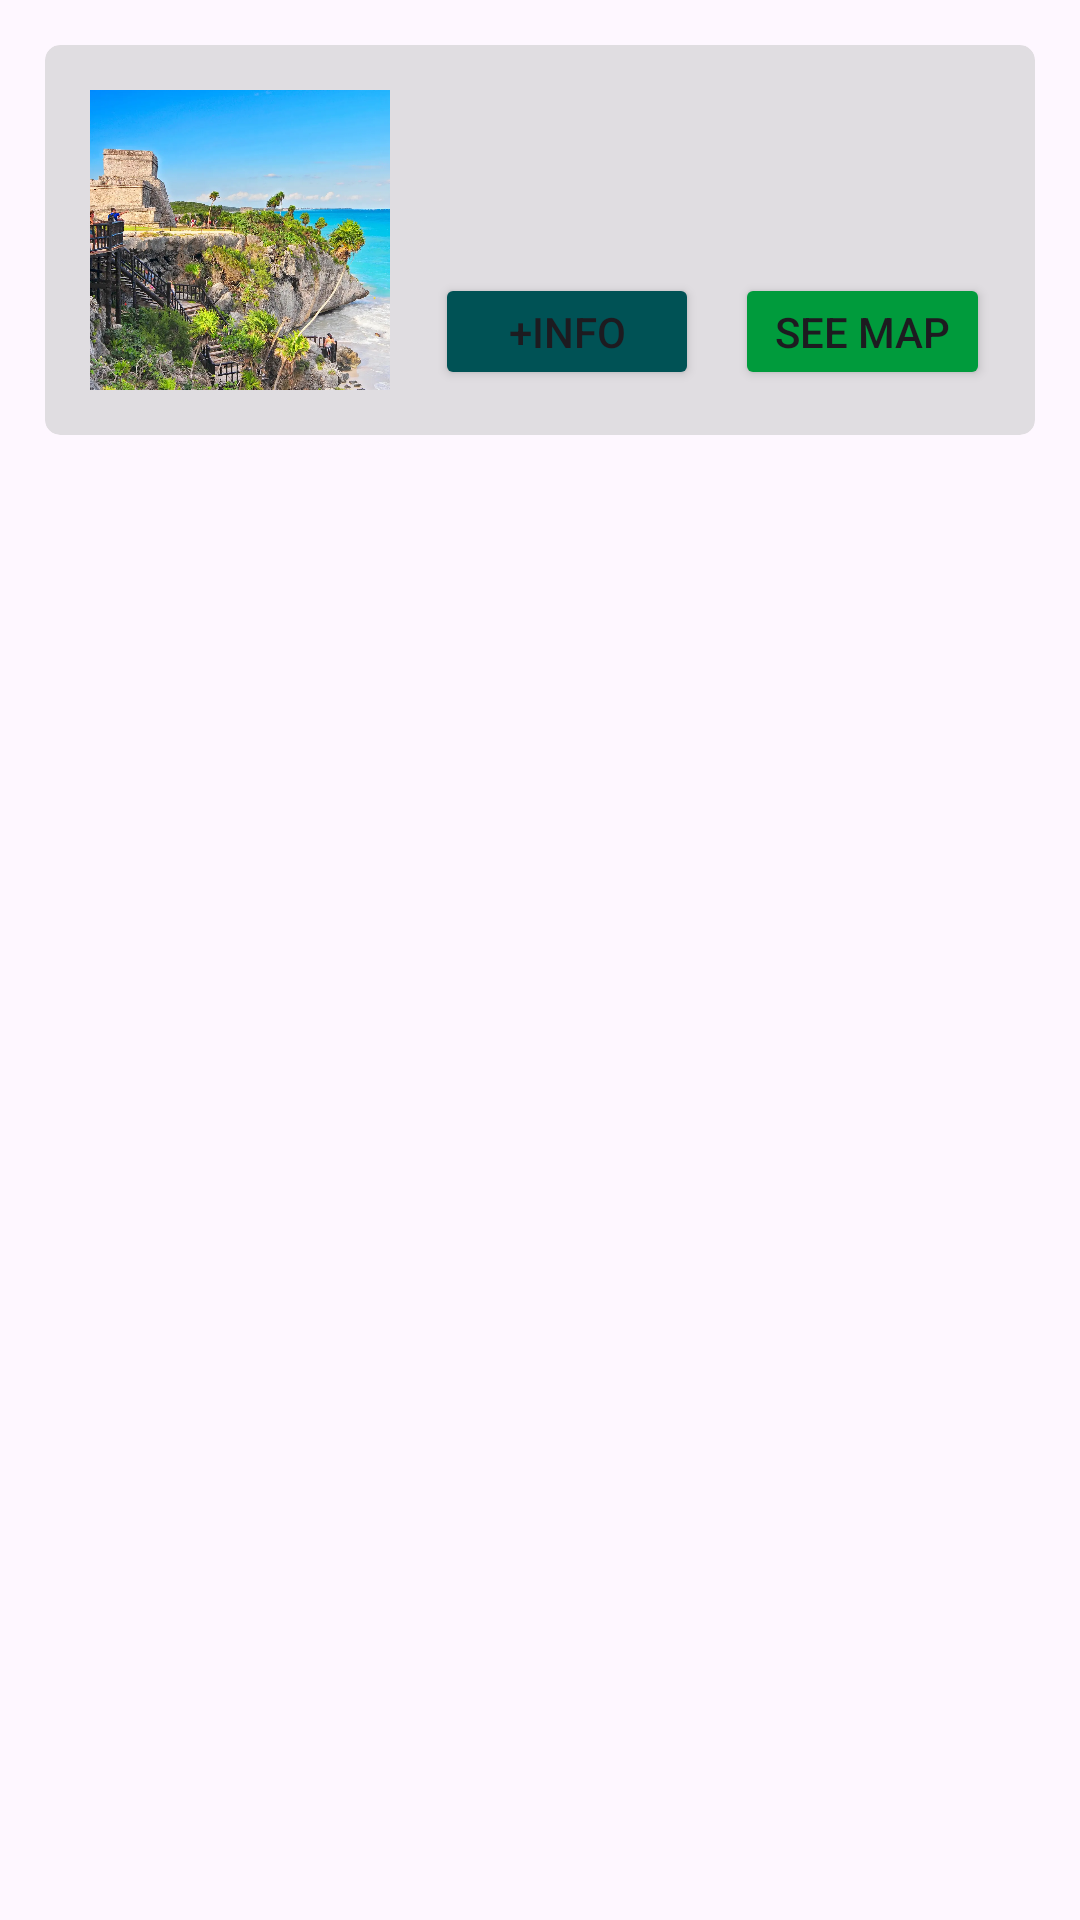

Screen size 1080 × 1920. Icon name, then its box in pixels as {"x1": x1, "y1": y1, "x2": x2, "y2": y2}:
tulum: {"x1": 90, "y1": 90, "x2": 390, "y2": 390}
